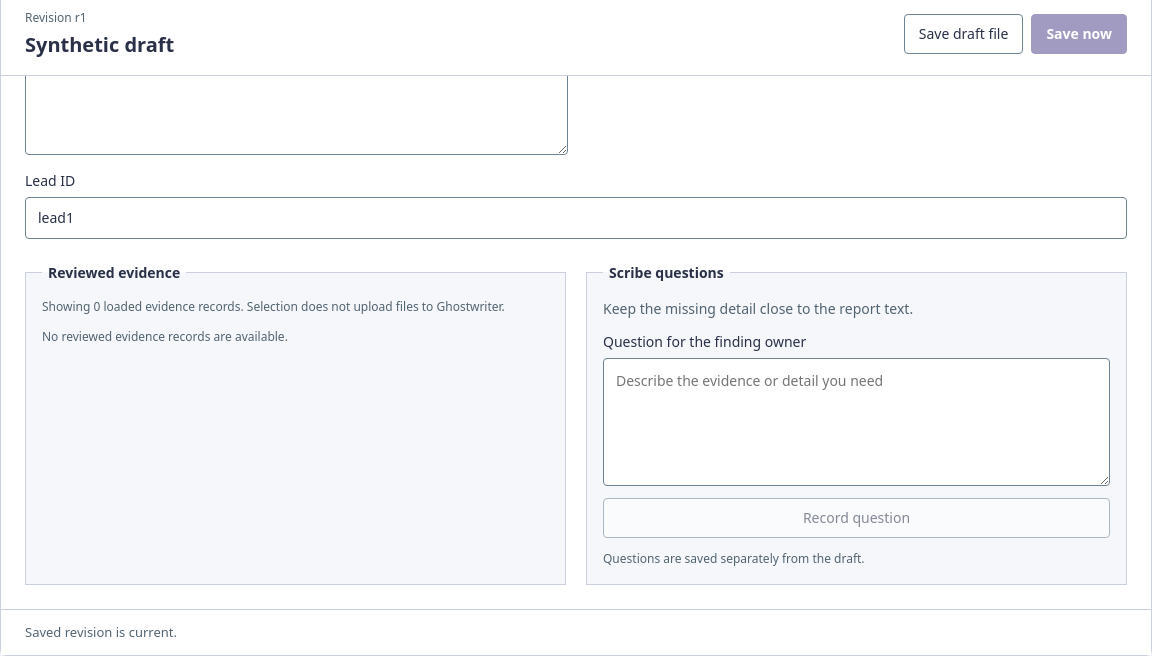
Scenario: records a scribe question beside a lead-backed draft using the existing question endpoint
(page scrolled)
Type "Which asset was observed?" into the text box labelled "Question for the finding owner" at (856, 422), box [603, 358, 1110, 486]
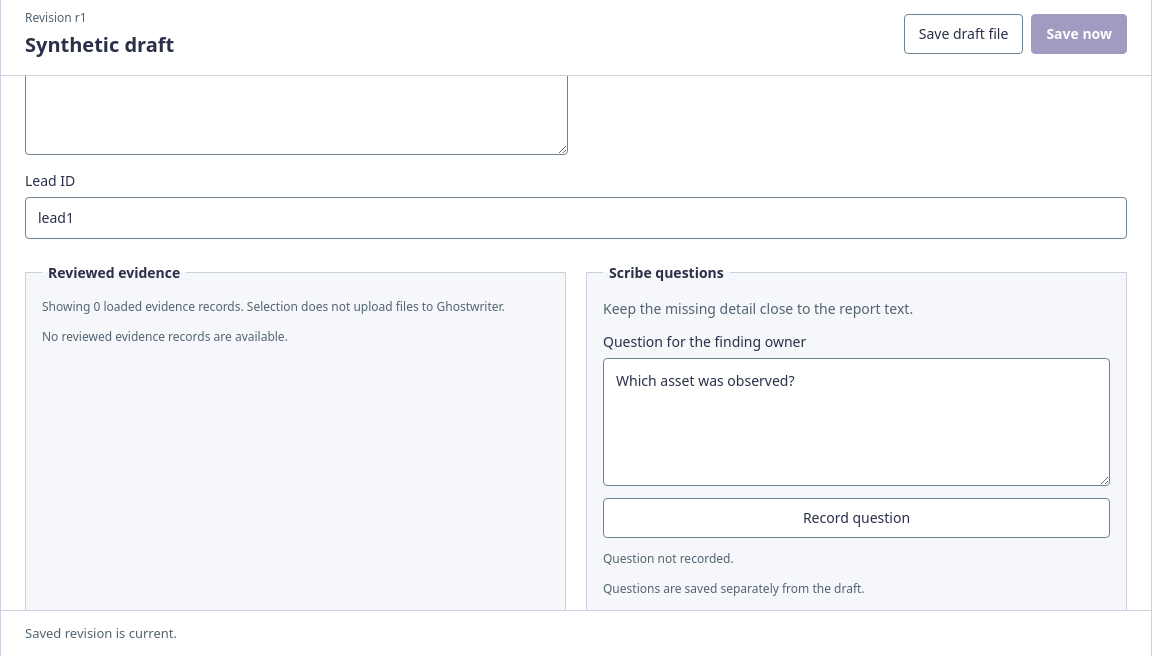
Click the button "Record question" at (856, 518), box [603, 498, 1110, 538]
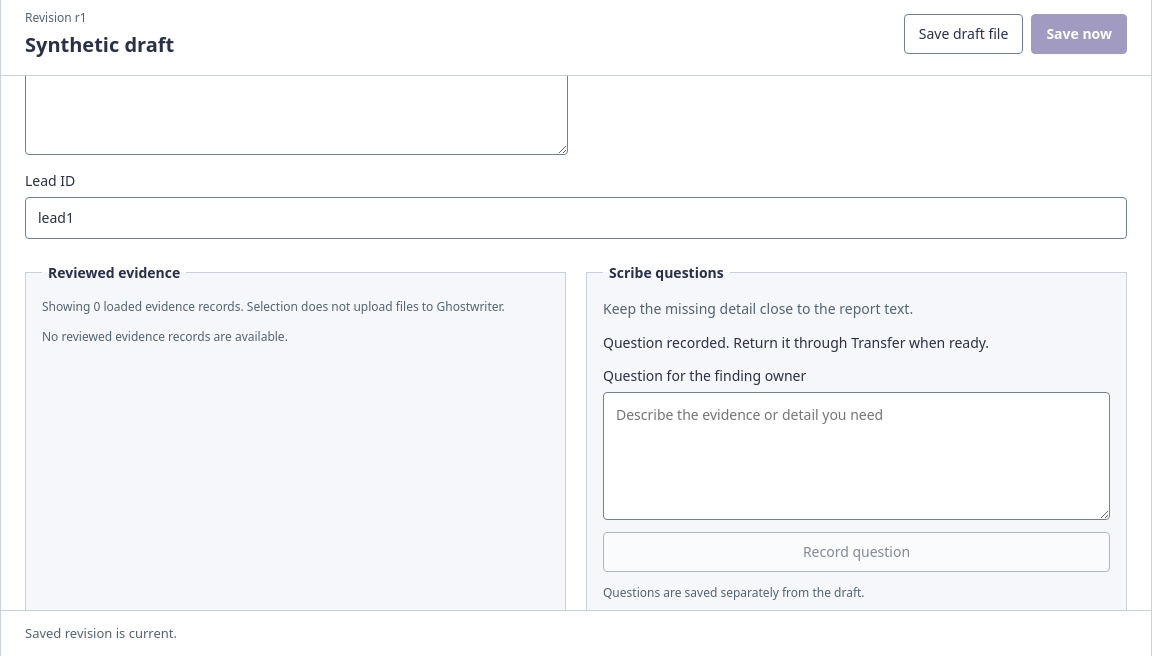
Expected: the text "Question recorded. Return it through Transfer when ready." is shown, [603, 333, 989, 352]
